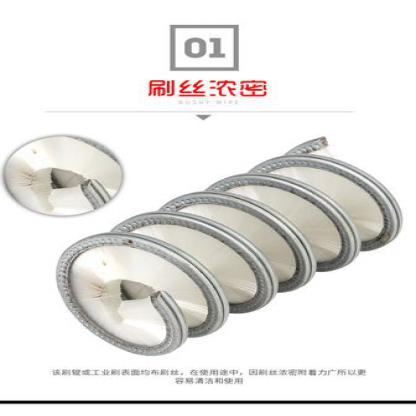FOD: (53, 134, 414, 358)
